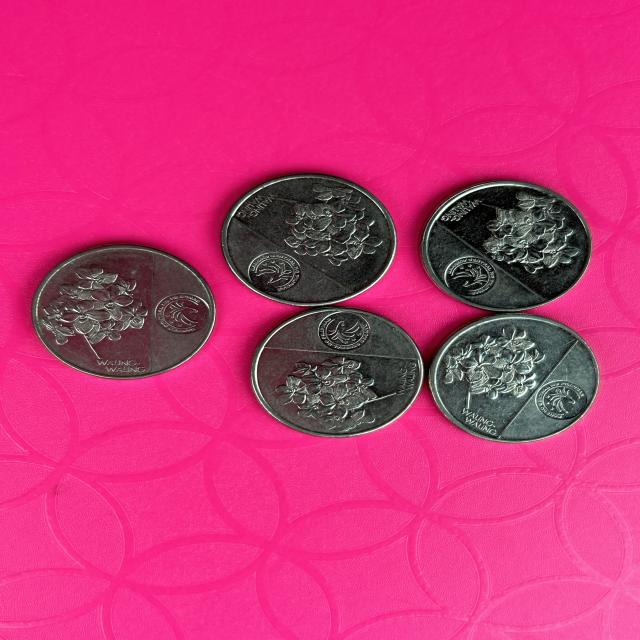1_New_Back: (476, 189, 590, 286), (29, 264, 148, 355), (266, 179, 375, 272), (269, 352, 386, 425), (445, 319, 542, 396)
